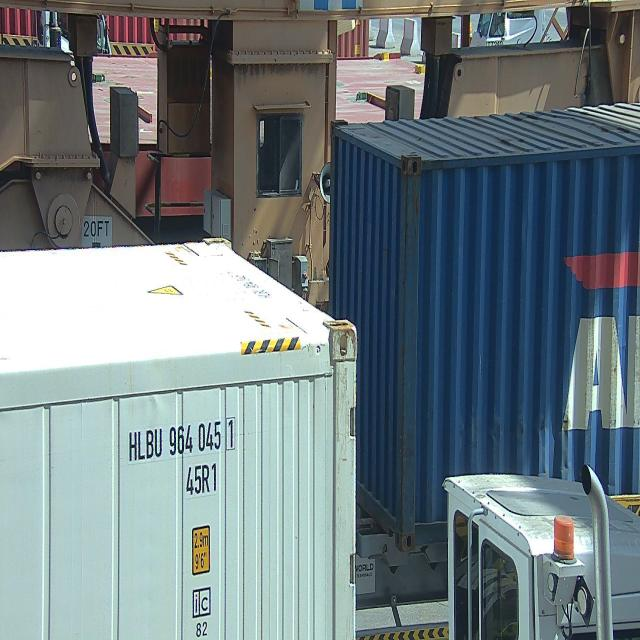dent: (487, 400, 582, 481)
